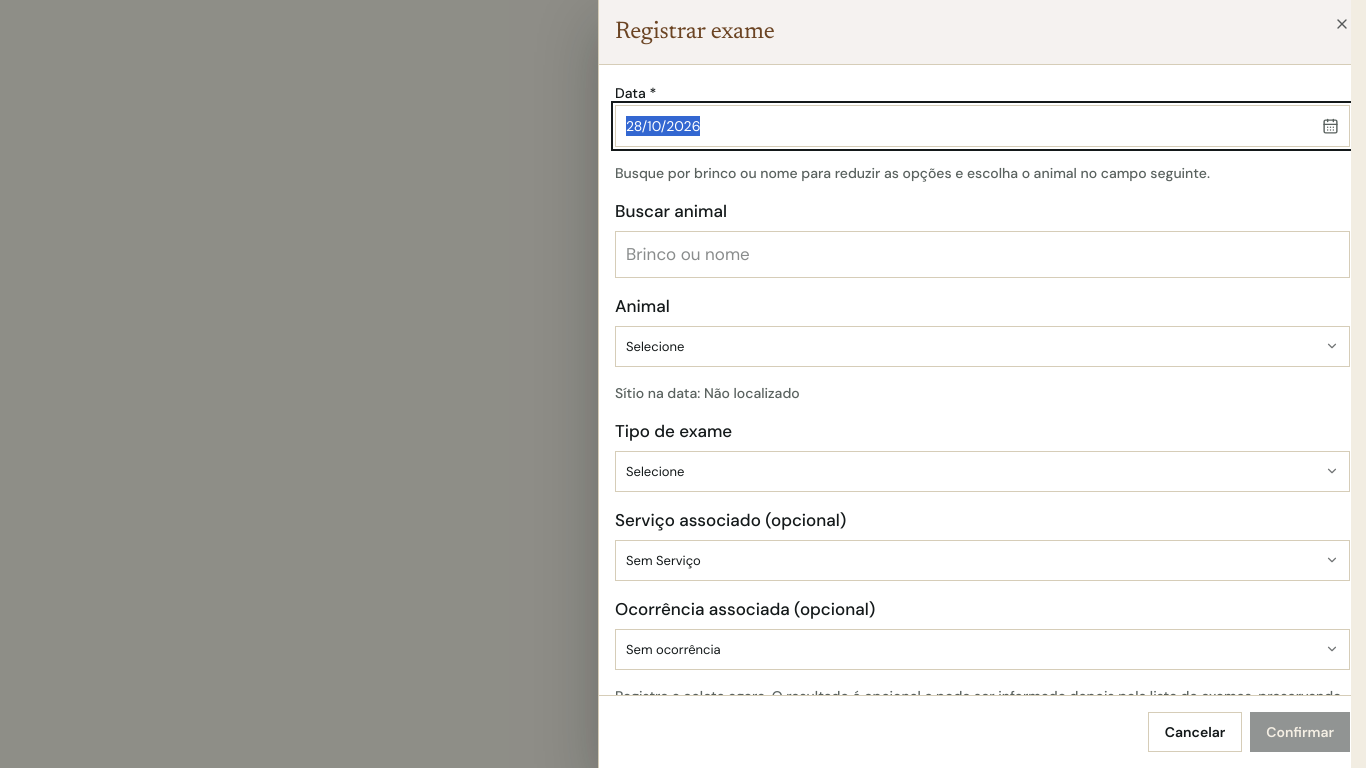
Test: oferece seleção própria sem animal inicial
The width and height of the screenshot is (1366, 768).
Expected: the text "Busque por brinco ou nome para reduzir" is shown, x1=615 y1=164 x2=1210 y2=182
Click the dropdown named "Animal".
click(655, 346)  # box x1=615 y1=326 x2=1350 y2=367
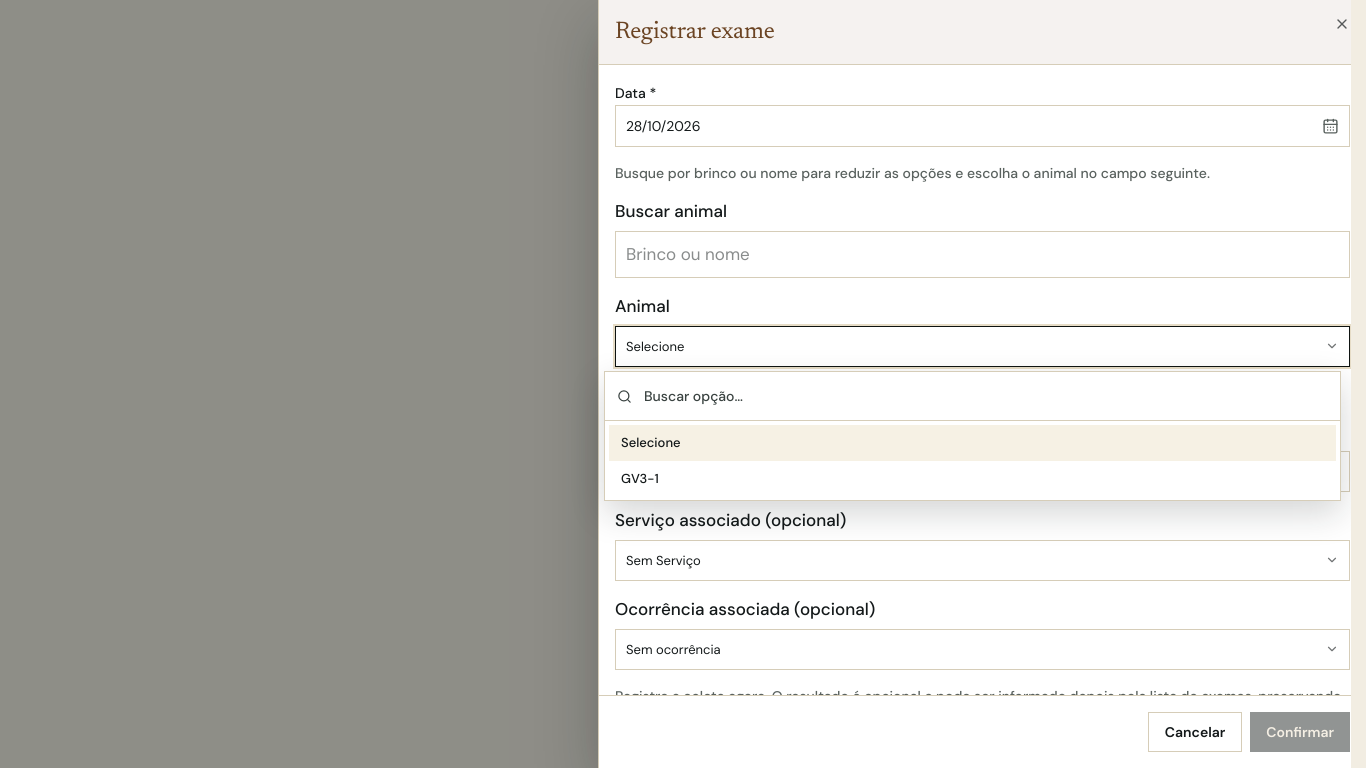
Click the option "GV3-1".
click(640, 478)  # box x1=621 y1=470 x2=659 y2=486
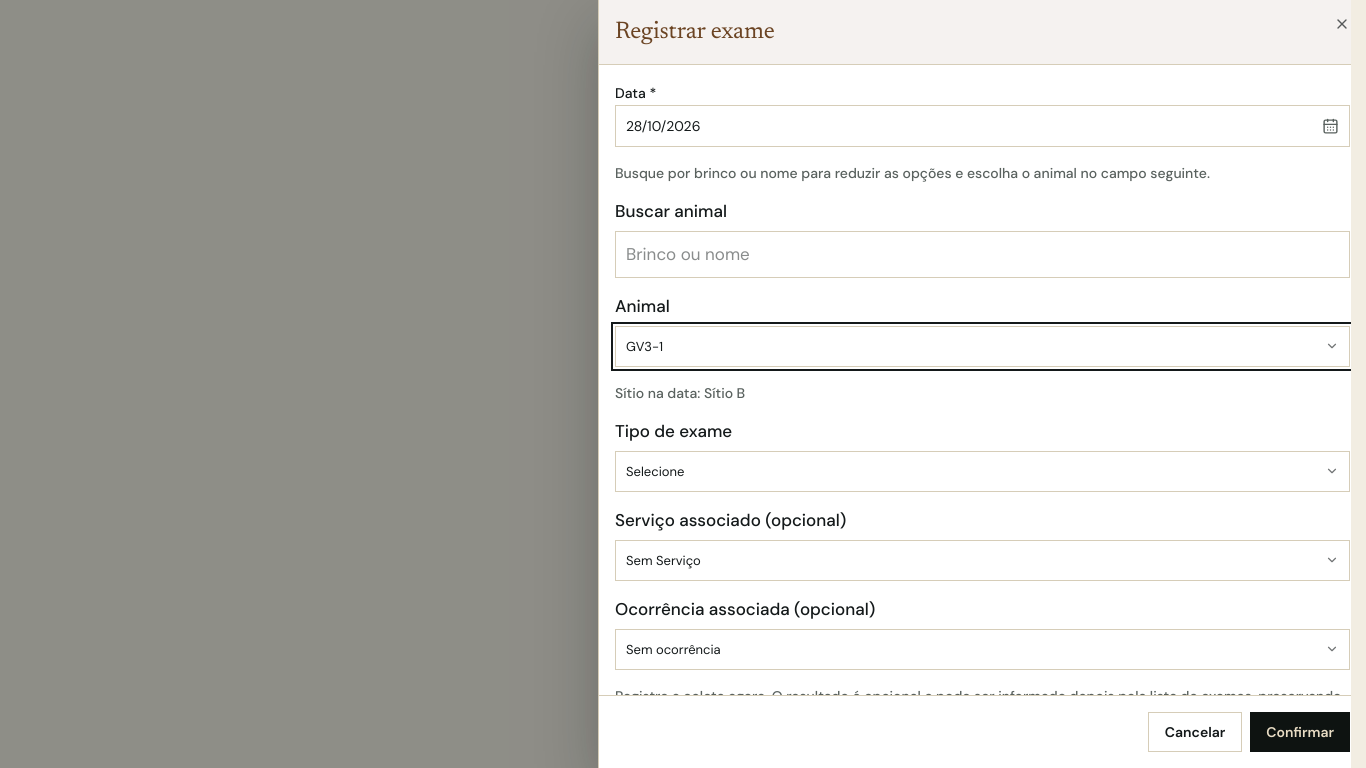
Now the text "Sítio na data: Sítio B" is shown, box x1=615 y1=384 x2=745 y2=402
